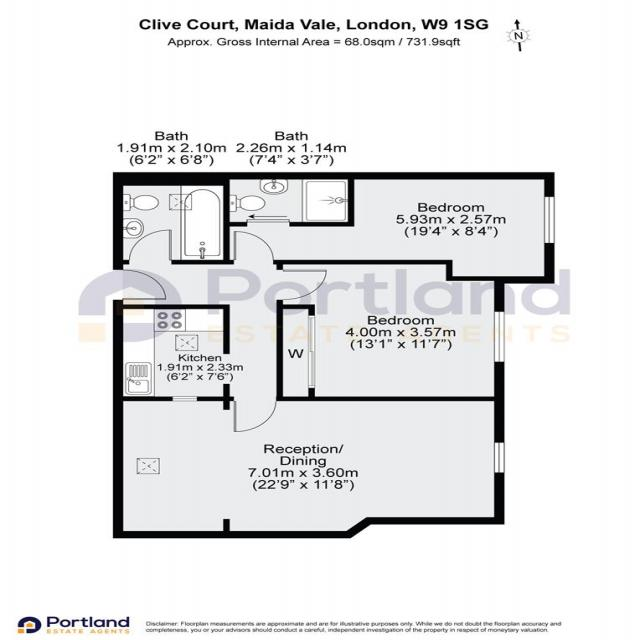DOOR: (112, 269, 168, 301), (275, 269, 328, 301), (128, 228, 173, 265), (233, 396, 278, 433), (233, 230, 276, 265)
ROOM: (112, 396, 505, 539), (223, 172, 555, 285), (276, 258, 505, 402), (112, 304, 231, 402)
WINDOW: (493, 311, 505, 363), (543, 196, 555, 244), (493, 442, 505, 474), (172, 396, 198, 402)
